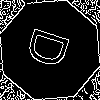D: (25, 25, 79, 74)
